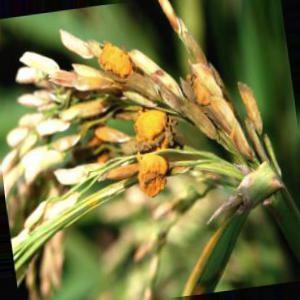Leaf_Scald: (131, 109, 174, 193), (190, 60, 228, 133), (242, 79, 267, 157), (94, 41, 136, 74)
